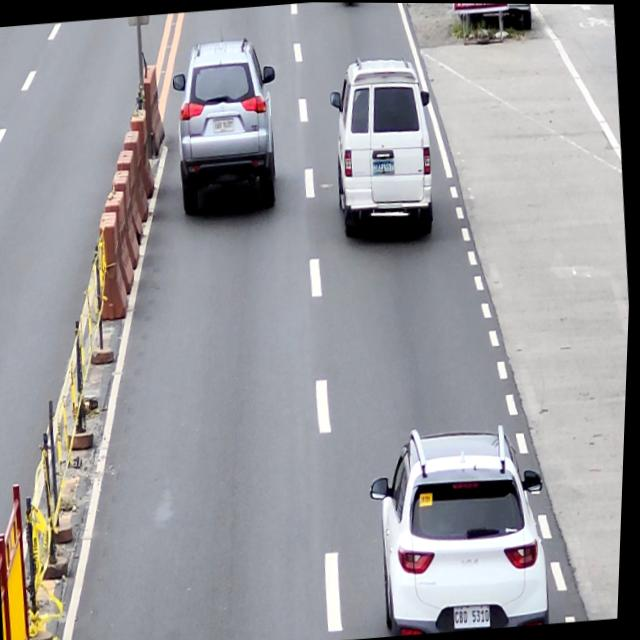Car: (365, 416, 560, 637), (325, 50, 444, 246), (165, 32, 289, 217)
License-Plate: (455, 602, 495, 630), (373, 159, 396, 176), (213, 116, 236, 133)
